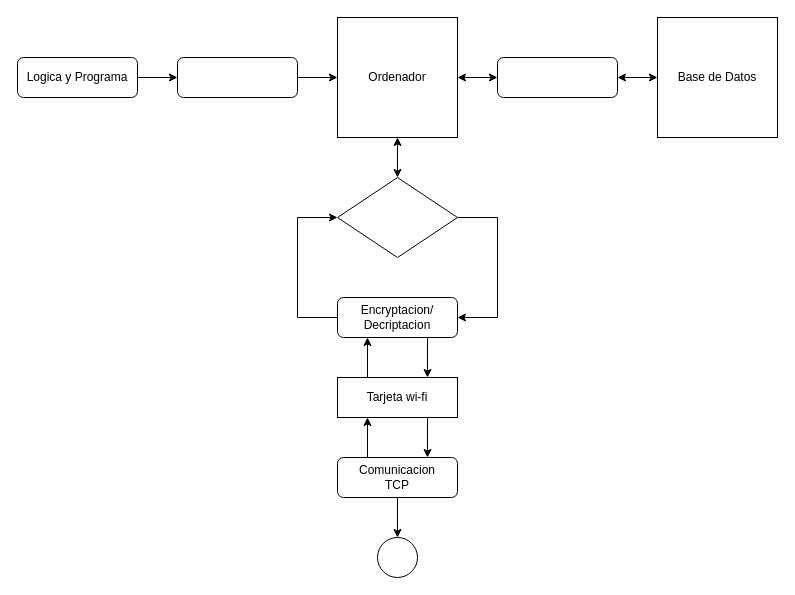
The diagram is 795 pixels wide and 595 high, and some of its shapes have lost their labels. Here are the shapes that lost their labels. From the top down, the centre of each, then its label:
At (x=237, y=77): "Python".
At (x=557, y=77): "Procesamiento de Datos".
At (x=397, y=217): "Conexion Establecida".
